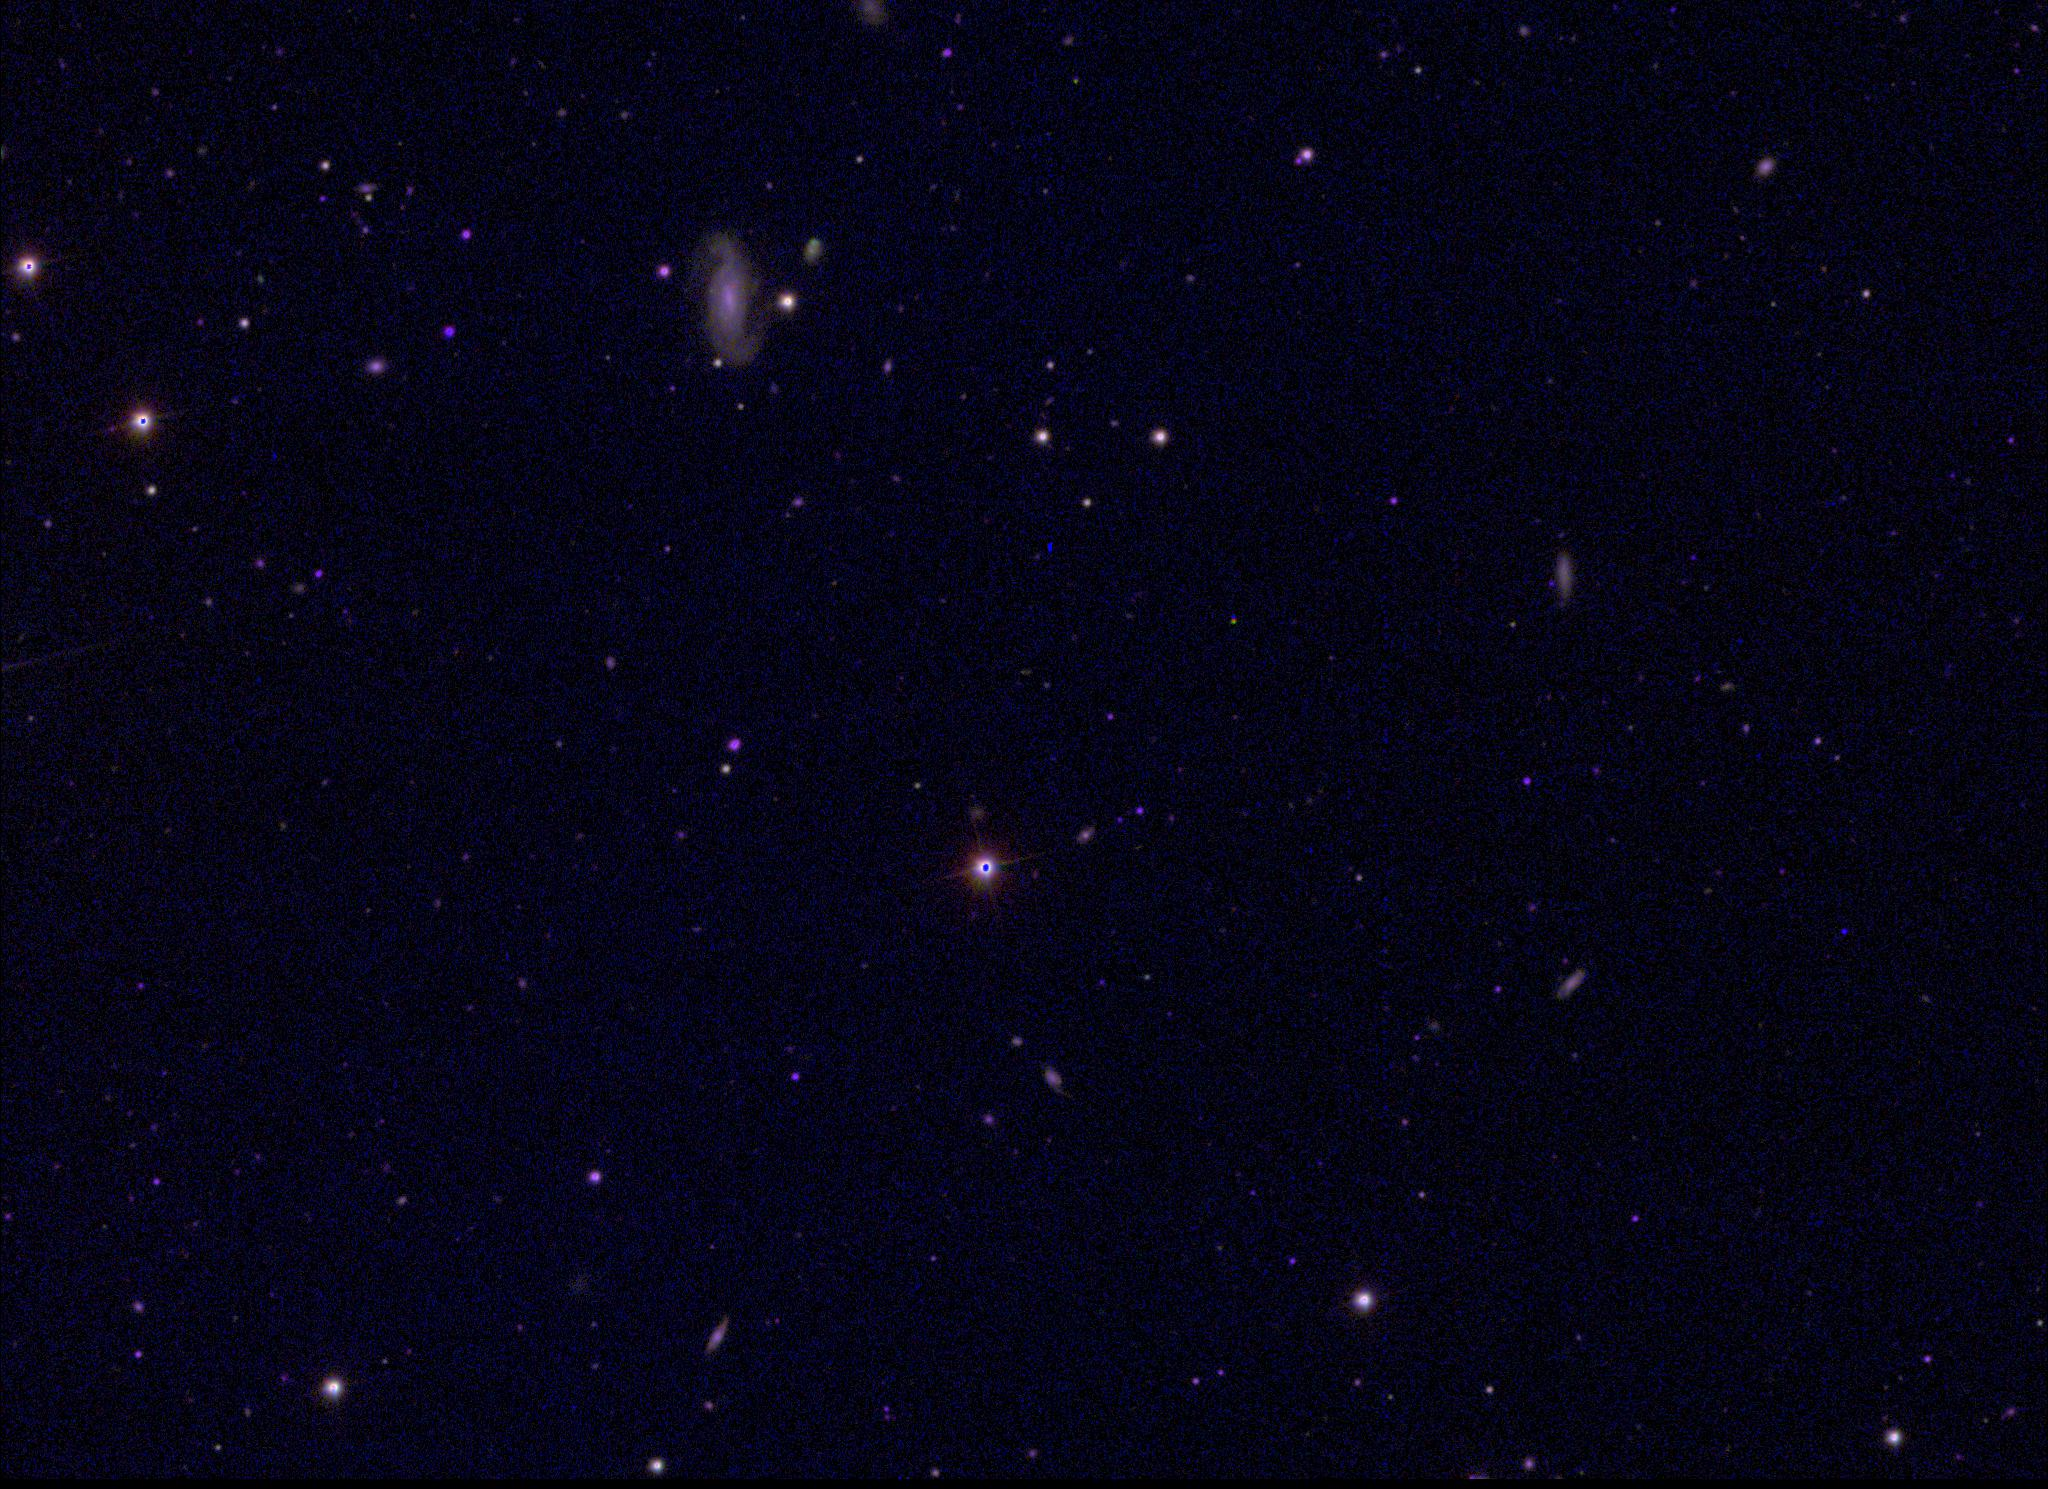L: (1837, 923, 1851, 935)
